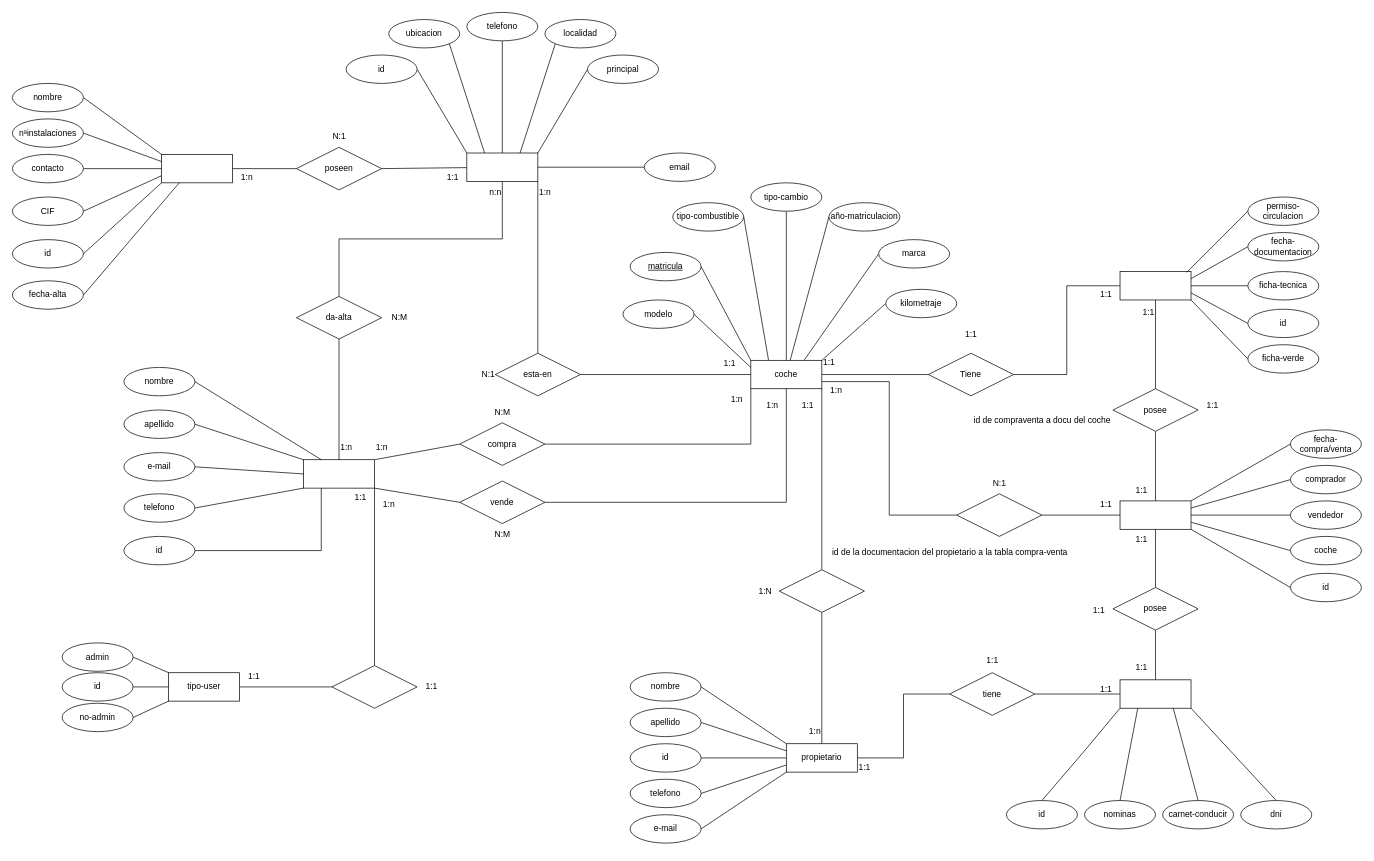
The diagram is 1374 pixels wide and 861 high, and some of its shapes have lost their labels. Each missing label, with the box of its shape:
compra-venta: (1119, 500, 1191, 529)
docu-coche: (1119, 271, 1191, 300)
documentacion-propietario: (1119, 679, 1191, 708)
empresas: (161, 154, 233, 183)
es: (331, 665, 417, 708)
genera: (956, 493, 1042, 536)
instalaciones: (466, 152, 538, 181)
pertenece: (779, 569, 864, 612)
usuario: (303, 459, 375, 488)
